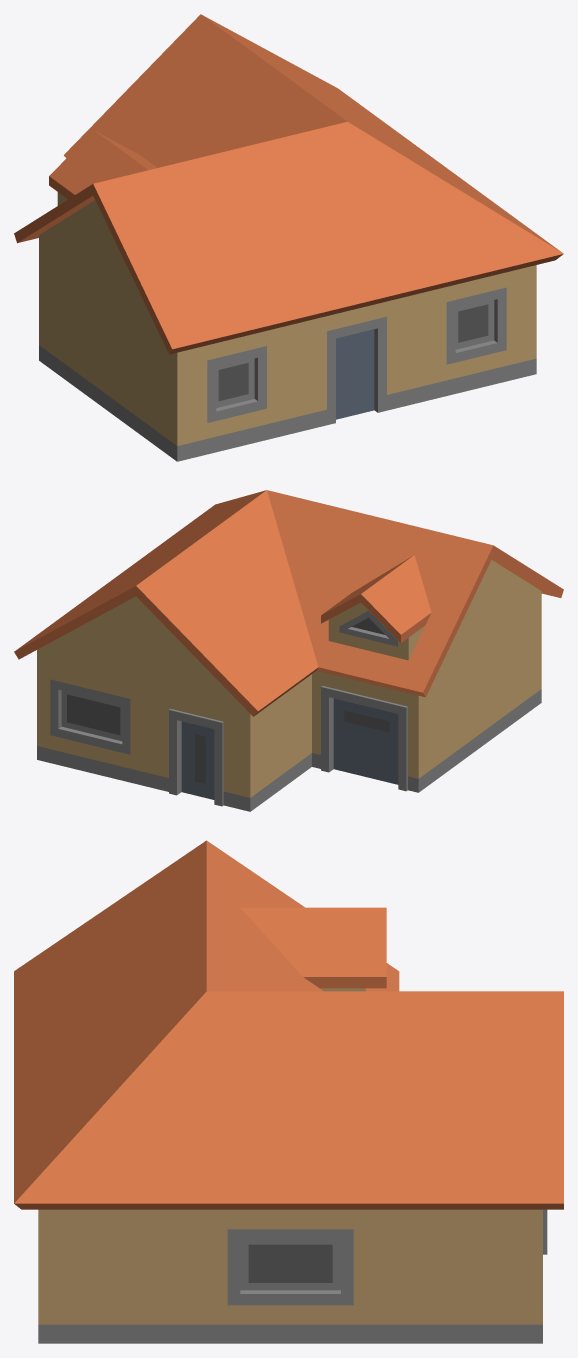
File: SM_Suburb_House_04.fbx
3 renders of one model, top to bottom at view 1: azimuth 30°, elevation 25°; view 2: azimuth 150°, elevation 25°; view 3: azimuth 270°, elevation 25°, orthographic. The views are drawn at different scales.
Parts seen in each view (by area): view 1: SM_Suburb_House_04; view 2: SM_Suburb_House_04; view 3: SM_Suburb_House_04.
Part boxes in pixels (x1=…): SM_Suburb_House_04: x1=14, y1=14, x2=563, y2=461; SM_Suburb_House_04: x1=14, y1=490, x2=563, y2=811; SM_Suburb_House_04: x1=14, y1=840, x2=563, y2=1343.
Size of the model in its own units: 942 by 531 by 942.
